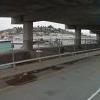Bridge: (11, 11, 95, 54)
